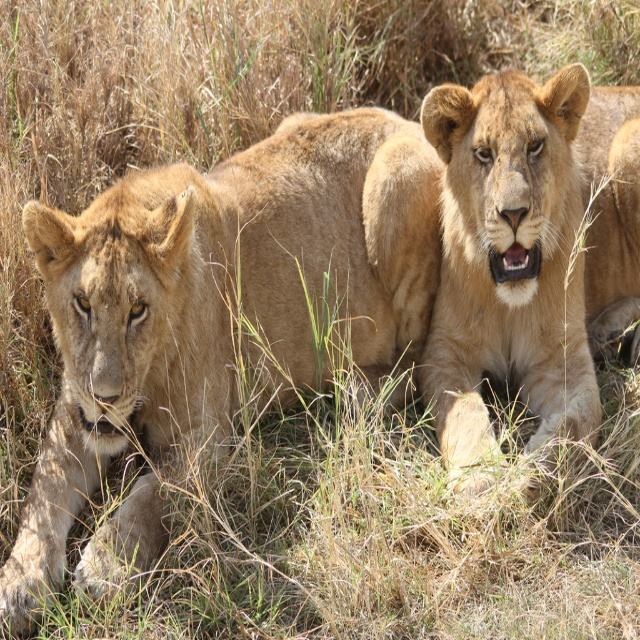Lion: (0, 106, 446, 640), (418, 63, 640, 508)
